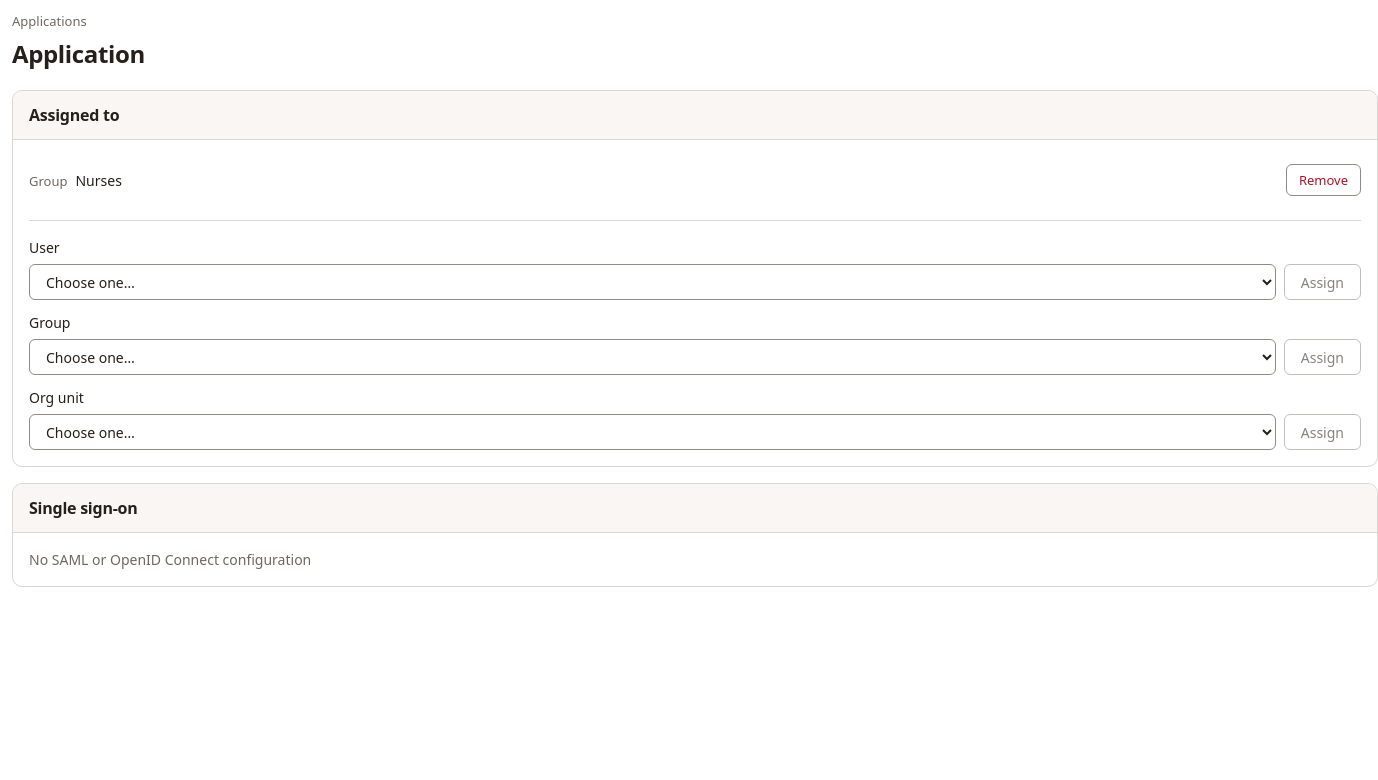
Test: assignment controls › renders the server refusal when a removal is forbidden
Step 1. Click the button "Remove" → (1323, 180), box [1286,164,1361,196]
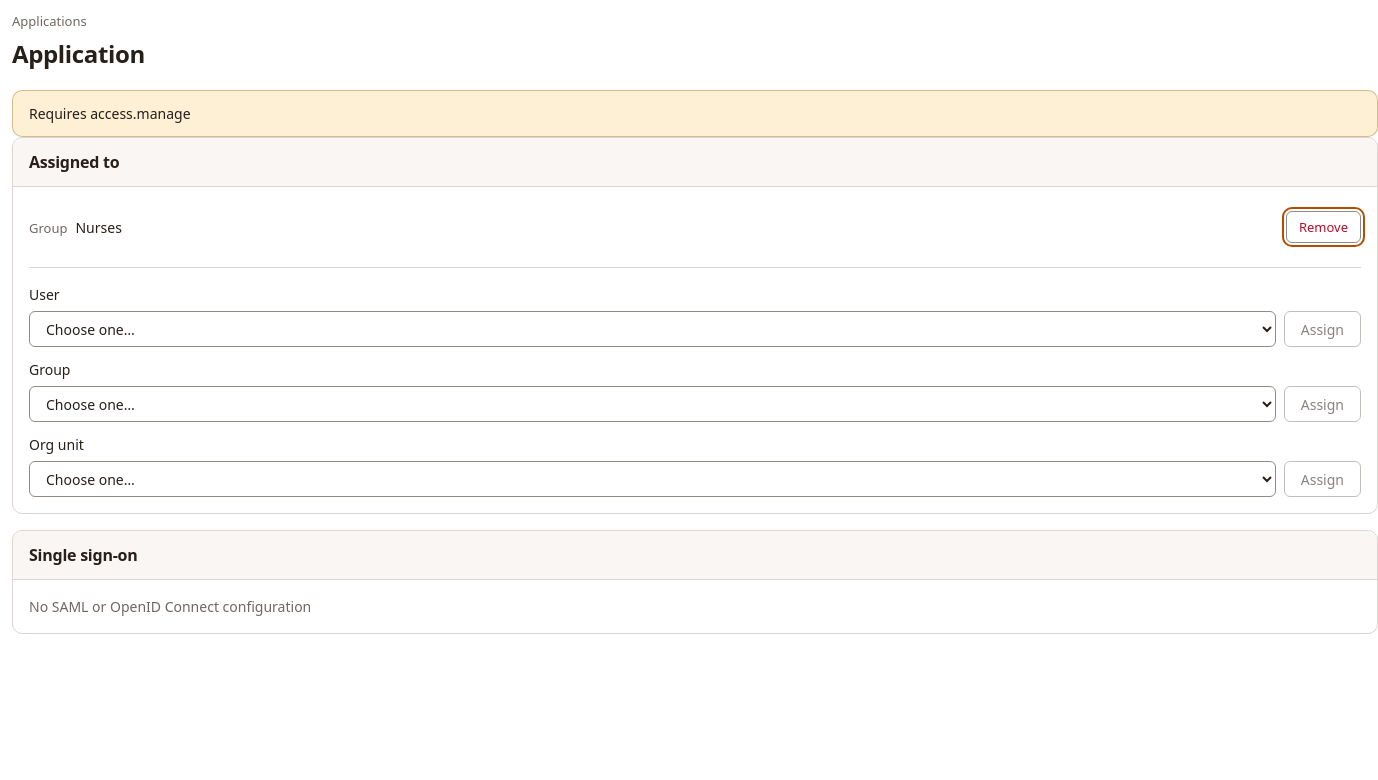
Check: the text "Requires access.manage" is shown, box [29,104,190,123]
